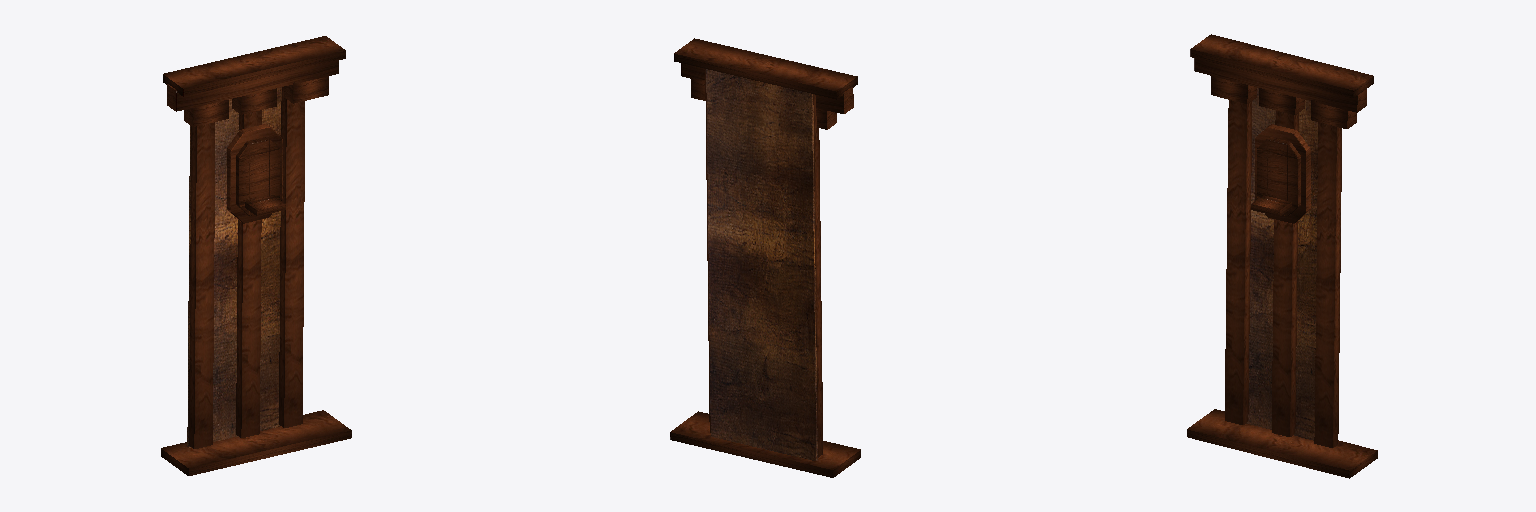
3 views of the same model, side by side, from view 1: azimuth 30°, elevation 25°; view 2: azimuth 150°, elevation 25°; view 3: azimuth 330°, elevation 25° (orthographic).
Visible parts, largest first — view 1: pCube16; view 2: pCube16; view 3: pCube16.
Boxes of the visible parts, <box> form: pCube16: <box>161,36,351,475</box>; pCube16: <box>670,38,860,477</box>; pCube16: <box>1187,34,1377,478</box>.
Size of the model in its own units: 3.6 by 8.03 by 1.14.
Materials: 2 (2 with a texture image).